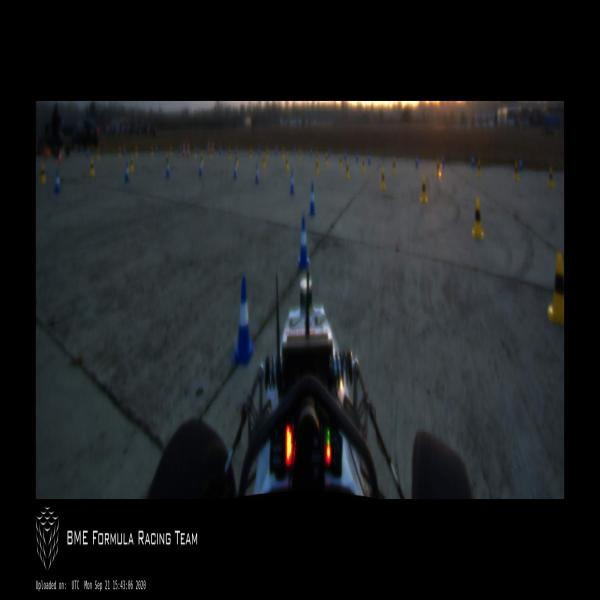blue_cone: (233, 277, 254, 366), (296, 216, 310, 270), (309, 184, 316, 217), (53, 168, 61, 195), (288, 171, 295, 195), (124, 162, 130, 184), (255, 163, 259, 186), (166, 158, 170, 180), (233, 160, 237, 179), (198, 160, 202, 178), (519, 160, 523, 177), (471, 154, 475, 168), (368, 152, 371, 167), (415, 156, 418, 169), (442, 156, 444, 169), (356, 153, 358, 164)
yellow_cone: (547, 250, 564, 324), (471, 197, 485, 241), (420, 174, 428, 204), (380, 167, 386, 192), (548, 167, 554, 190), (40, 164, 46, 185), (513, 162, 519, 181), (90, 156, 95, 178), (476, 160, 482, 178), (435, 159, 441, 176), (346, 162, 350, 180), (392, 157, 396, 175), (315, 157, 319, 175), (285, 154, 289, 172), (262, 153, 266, 170), (130, 156, 134, 173), (281, 146, 285, 160), (209, 146, 213, 159), (362, 156, 365, 172), (299, 149, 302, 163), (325, 152, 328, 166), (249, 148, 252, 162), (194, 146, 197, 158), (266, 147, 269, 159), (236, 151, 238, 168), (340, 154, 342, 170), (170, 146, 172, 160), (228, 146, 230, 159)
